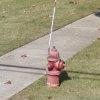a fire hydrant: (46, 50, 68, 87)
